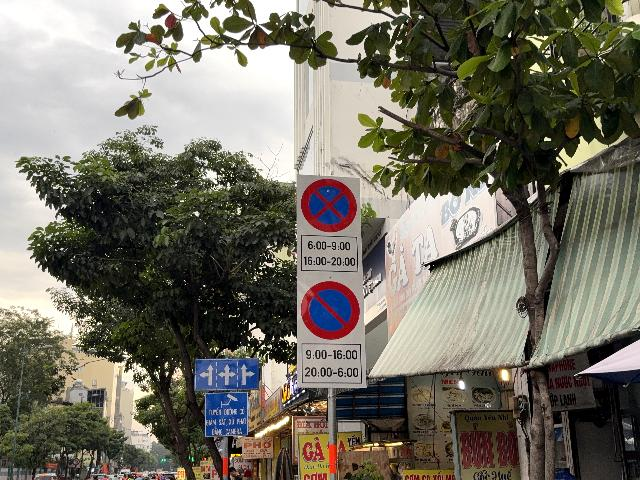cam-do-xe: (302, 281, 359, 340)
cam-dung-va-do-xe: (301, 178, 358, 232)
